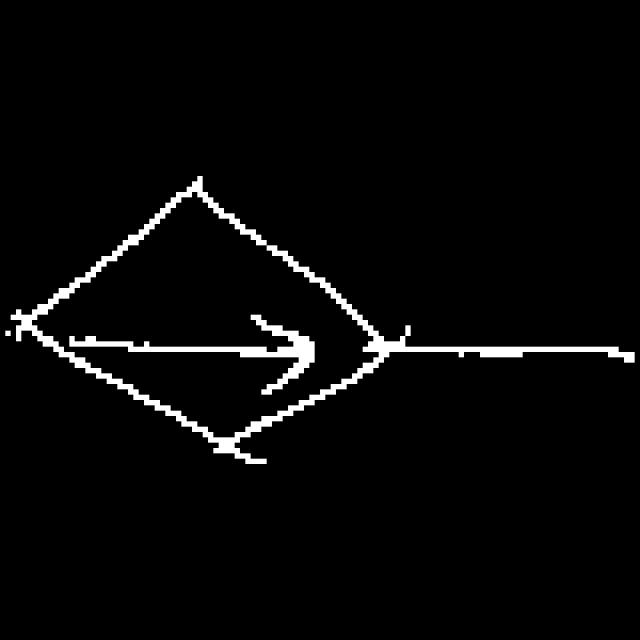dependant_current: (18, 178, 387, 476)
